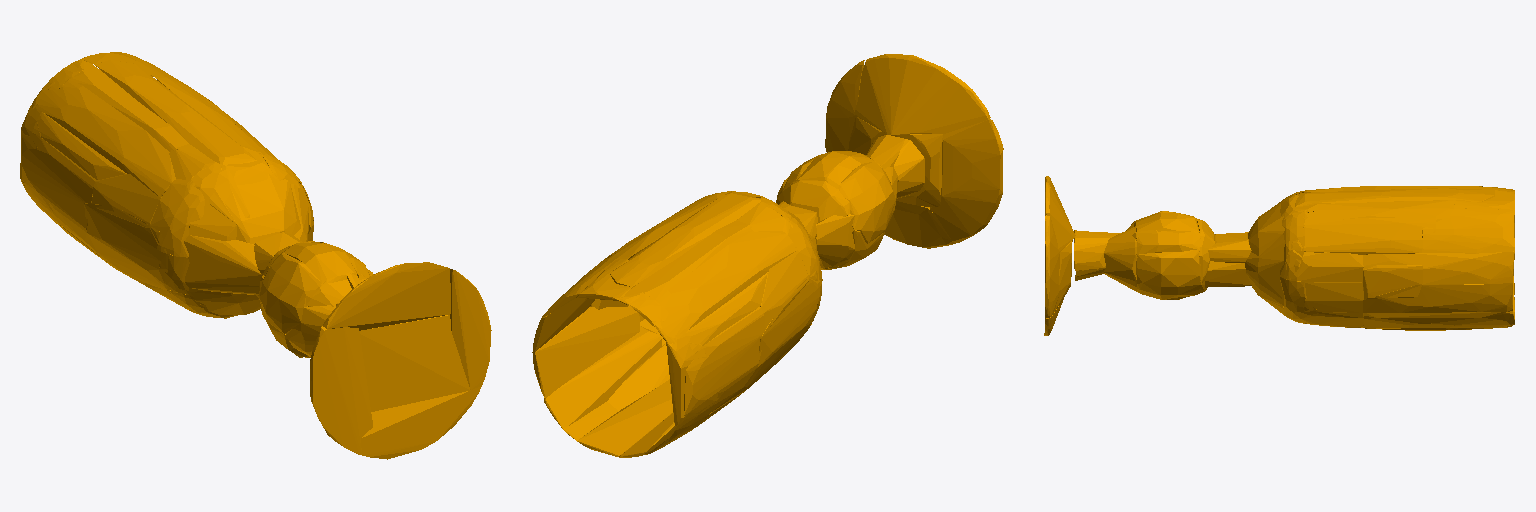
The robot description file, URDF, robot "glass-new":
<?xml version="1.0" ?>
<robot name="glass-new">
  <link name="baseLink">
    <contact>
      <lateral_friction value="1.0"/>
      <inertia_scaling value="3.0"/>
    </contact>
    <inertial>
      <origin rpy="0 0 0" xyz="0.000 0.000 0.000"/>
       <mass value=".1"/>
       <inertia ixx="1" ixy="0.0" ixz="0.0" iyy="1" iyz="0.0" izz="1"/>
    </inertial>
    <visual>
      <origin rpy="0 0 0" xyz="0 0 0"/>
      <geometry>
        <mesh filename="glass/glass-new_13.obj" scale="1.0 1.0 1.0"/>
      </geometry>
    </visual>
    <collision>
      <origin rpy="0 0 0" xyz="0 0 0"/>
      <geometry>
        <mesh filename="../collision/glass/glass-new_13.obj" scale="1.0 1.0 1.0"/>
      </geometry>
    </collision>
  </link>
</robot>
        

--- Facts derived from the render (not from the file) ---
Views: 3 orthographic renders of the robot side by side, from view 1: azimuth 30°, elevation 25°; view 2: azimuth 150°, elevation 25°; view 3: azimuth 270°, elevation 25°.
Robot: glass-new — 1 links, 0 joints (none); root link baseLink; default pose: all joints at 0.
Visible links, largest first — view 1: baseLink; view 2: baseLink; view 3: baseLink.
Link boxes in pixels (x1=…): baseLink: x1=20, y1=52, x2=491, y2=459; baseLink: x1=532, y1=54, x2=1003, y2=457; baseLink: x1=1044, y1=176, x2=1514, y2=335.
Size in the robot's own frame: 0.0446 by 0.1343 by 0.0457 metres.
Meshes: 1 distinct files referenced, 1 mesh visuals loaded (1 OBJ).